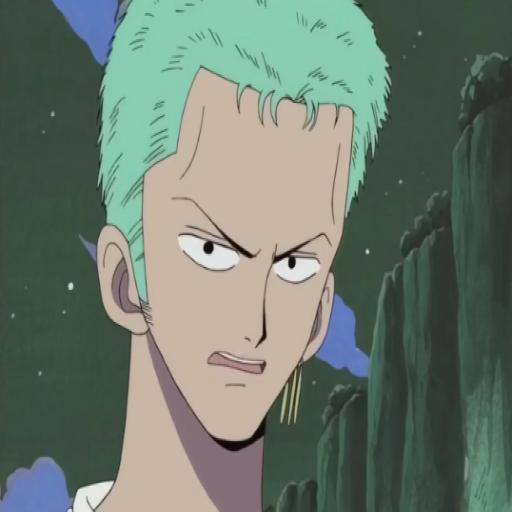Zoro: (64, 0, 378, 512)
